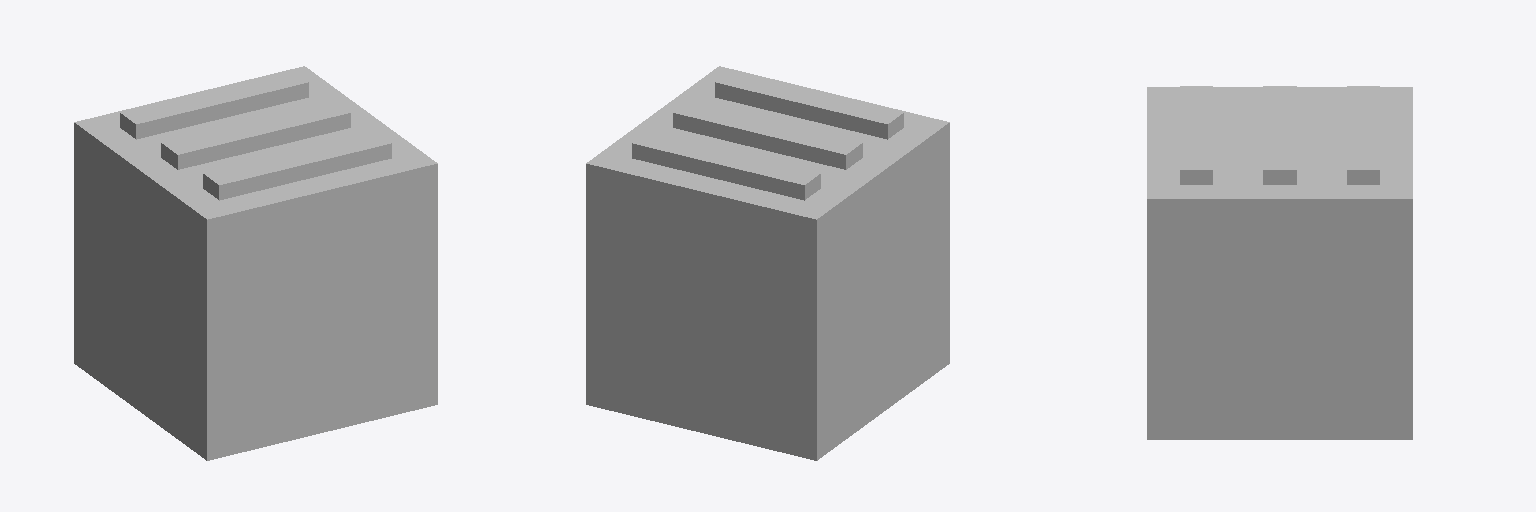
Rendered from led_machine.obj.
3 renders of one model, left to right at view 1: azimuth 30°, elevation 25°; view 2: azimuth 150°, elevation 25°; view 3: azimuth 270°, elevation 25°, orthographic.
Visible parts, largest first — view 1: object 1; view 2: object 1; view 3: object 1.
Part boxes in pixels (bbox=[...]): object 1: bbox=[74, 66, 437, 460]; object 1: bbox=[586, 66, 949, 460]; object 1: bbox=[1147, 86, 1412, 439].
Bounding box in the file's own units: 1 × 1.06 × 1.